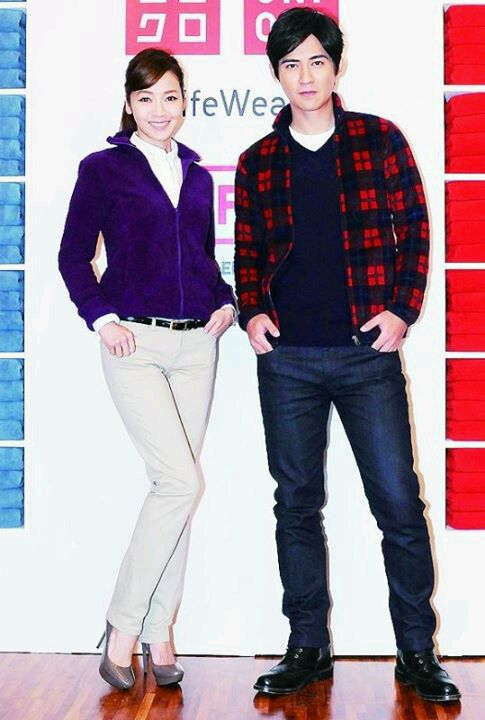other: (230, 5, 466, 711), (51, 47, 251, 690)
